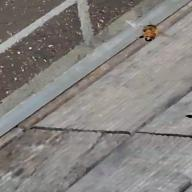Bee: (135, 15, 163, 48)
